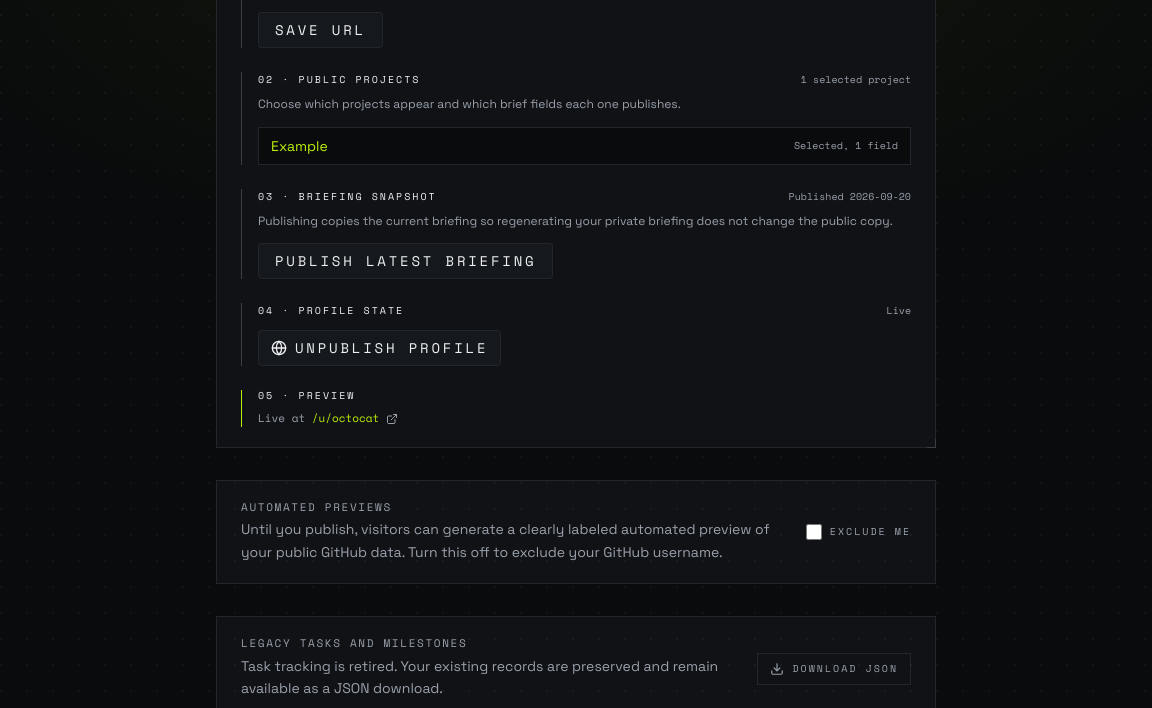
Test: unpublishes a live profile and keeps the preview link honest
(page scrolled)
Click the button "Unpublish profile": (380, 348) [258,330,501,366]
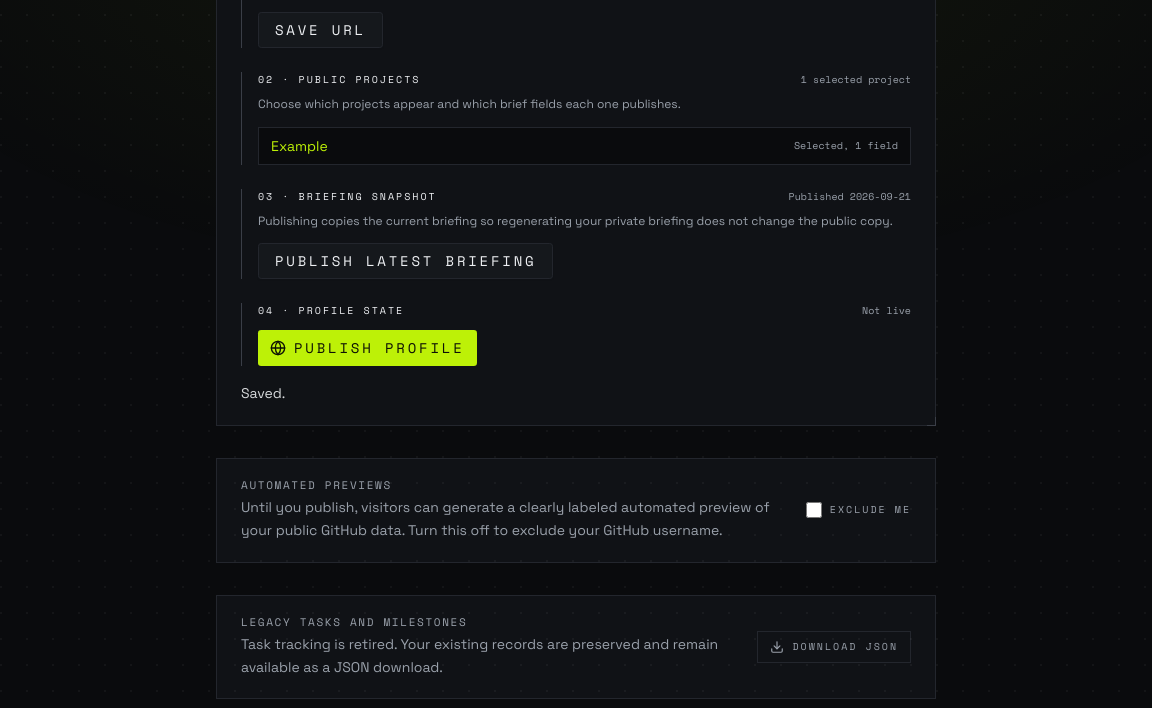
expect the message reads "Saved.": met, box [241,384,285,402]
expect the link "/u/octocat" is gone: met
